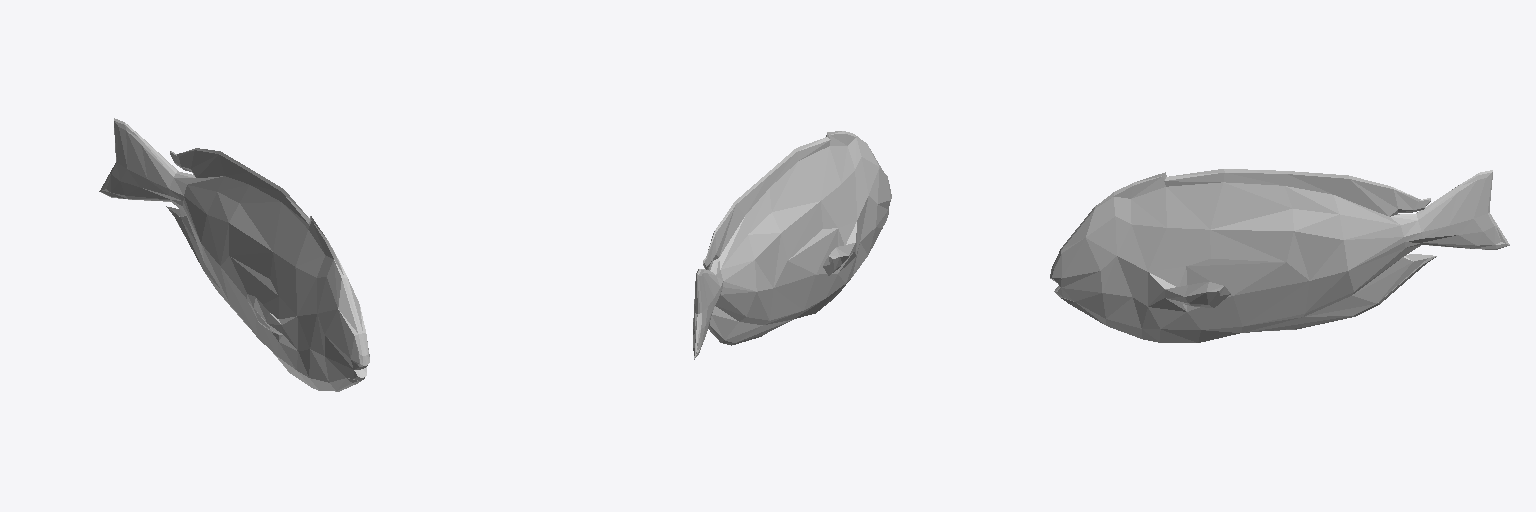
Rendered from Dory.obj.
3 views of the same model, side by side, from view 1: azimuth 30°, elevation 25°; view 2: azimuth 150°, elevation 25°; view 3: azimuth 270°, elevation 25° (orthographic).
Visible parts, largest first — view 1: Dory_DoryMesh.001; view 2: Dory_DoryMesh.001; view 3: Dory_DoryMesh.001.
Part boxes in pixels (left/top/right/bottom): Dory_DoryMesh.001: left=99, top=118, right=369, bottom=391; Dory_DoryMesh.001: left=693, top=131, right=891, bottom=359; Dory_DoryMesh.001: left=1050, top=169, right=1509, bottom=342.
Size of the model in its own units: 0.1493 by 0.3014 by 0.7204.